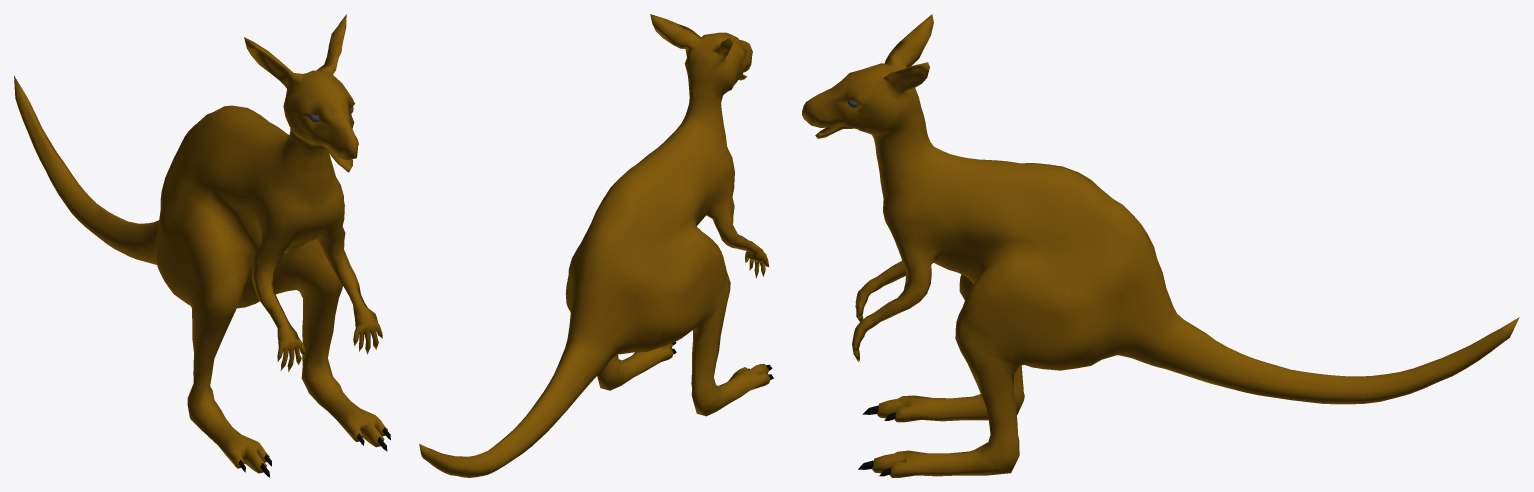
3 renders of one model, left to right at view 1: azimuth 30°, elevation 25°; view 2: azimuth 150°, elevation 25°; view 3: azimuth 270°, elevation 25°, orthographic. The views are drawn at different scales.
Parts seen in each view (by area): view 1: kang_LOD_0; view 2: kang_LOD_0; view 3: kang_LOD_0.
Boxes of the visible parts, <box> form: kang_LOD_0: <box>14,14,390,477</box>; kang_LOD_0: <box>419,14,773,477</box>; kang_LOD_0: <box>802,14,1519,477</box>.
Bounding box in the file's own units: 1.77 × 4.73 × 7.54.
